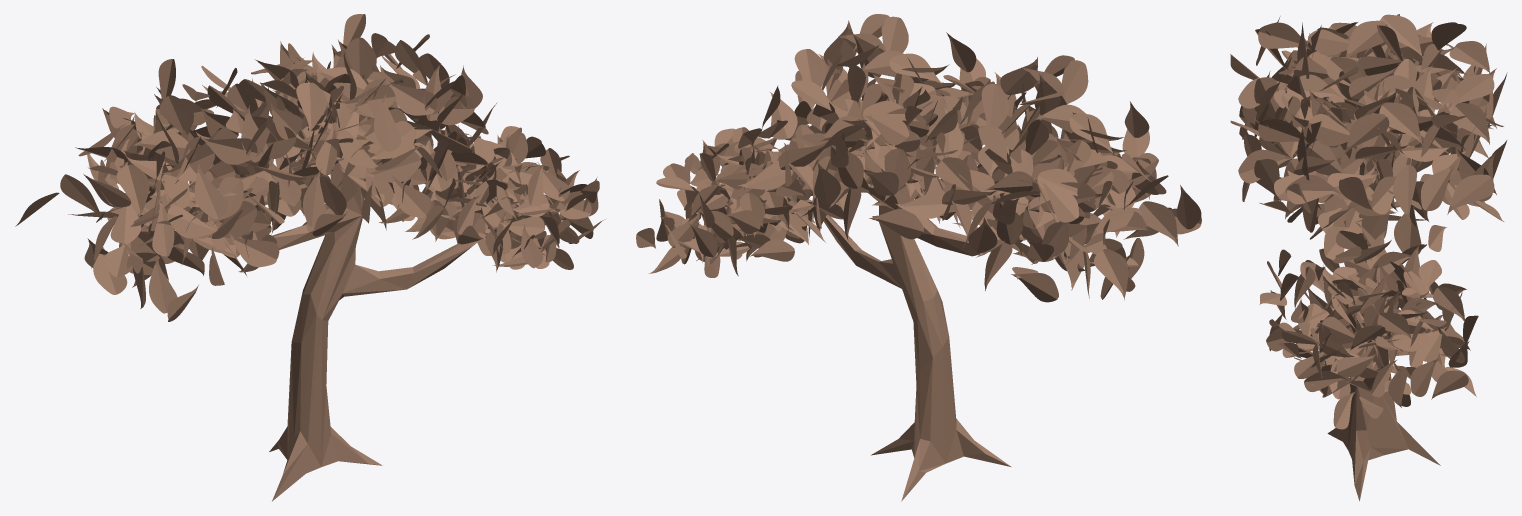
The model's file is tree 1.fbx.
3 renders of one model, left to right at view 1: azimuth 30°, elevation 25°; view 2: azimuth 150°, elevation 25°; view 3: azimuth 270°, elevation 25°, orthographic.
Parts seen in each view (by area): view 1: tree_1; view 2: tree_1; view 3: tree_1.
Part boxes in pixels (x1=…): tree_1: x1=15, y1=14, x2=605, y2=501; tree_1: x1=636, y1=14, x2=1201, y2=501; tree_1: x1=1230, y1=14, x2=1507, y2=501.
Bounding box in the file's own units: 1573 × 1225 × 747.
